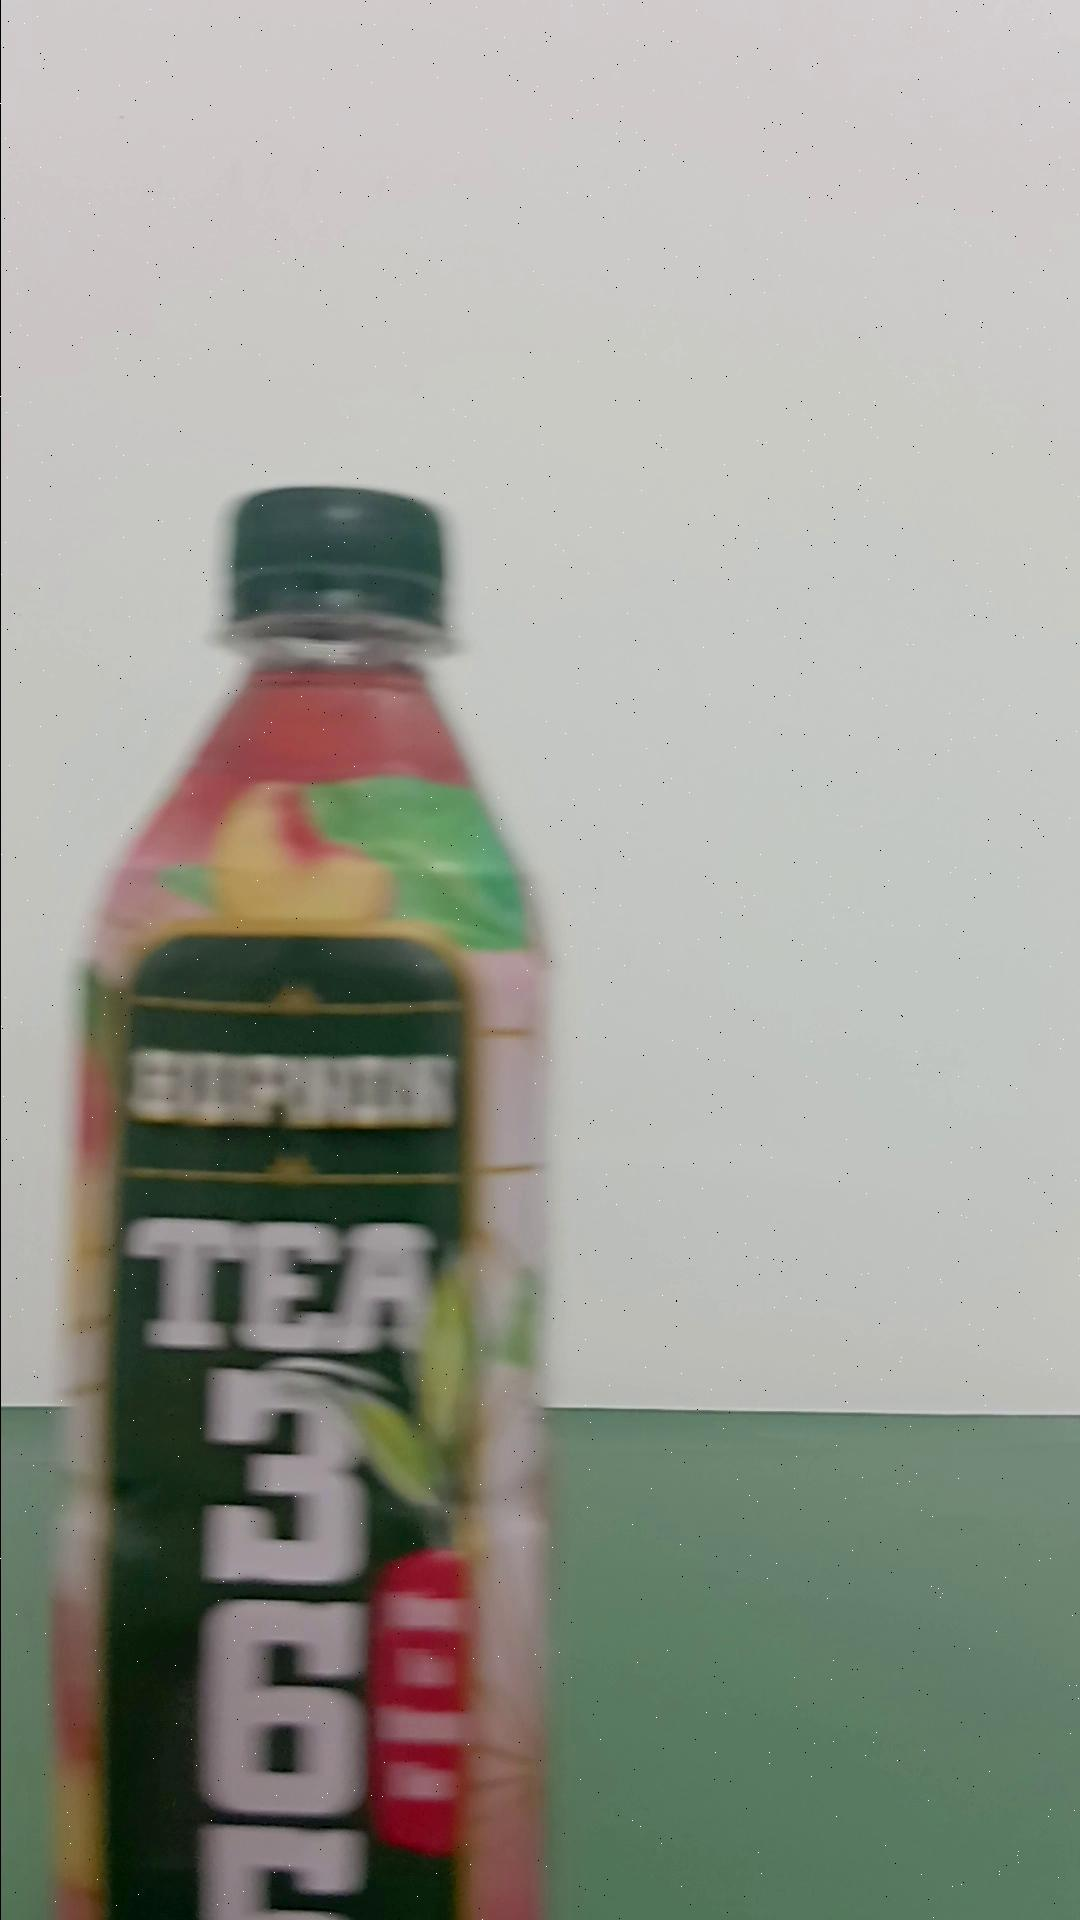khong loi: (55, 483, 556, 1915)
